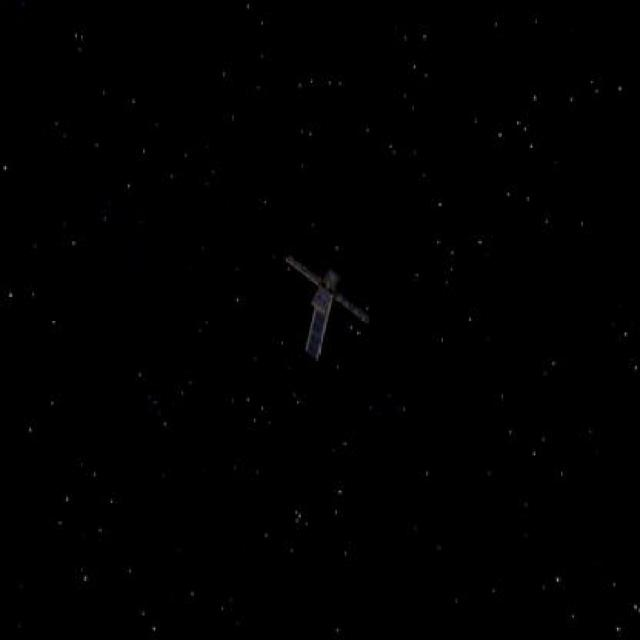satellite: (281, 244, 373, 387)
